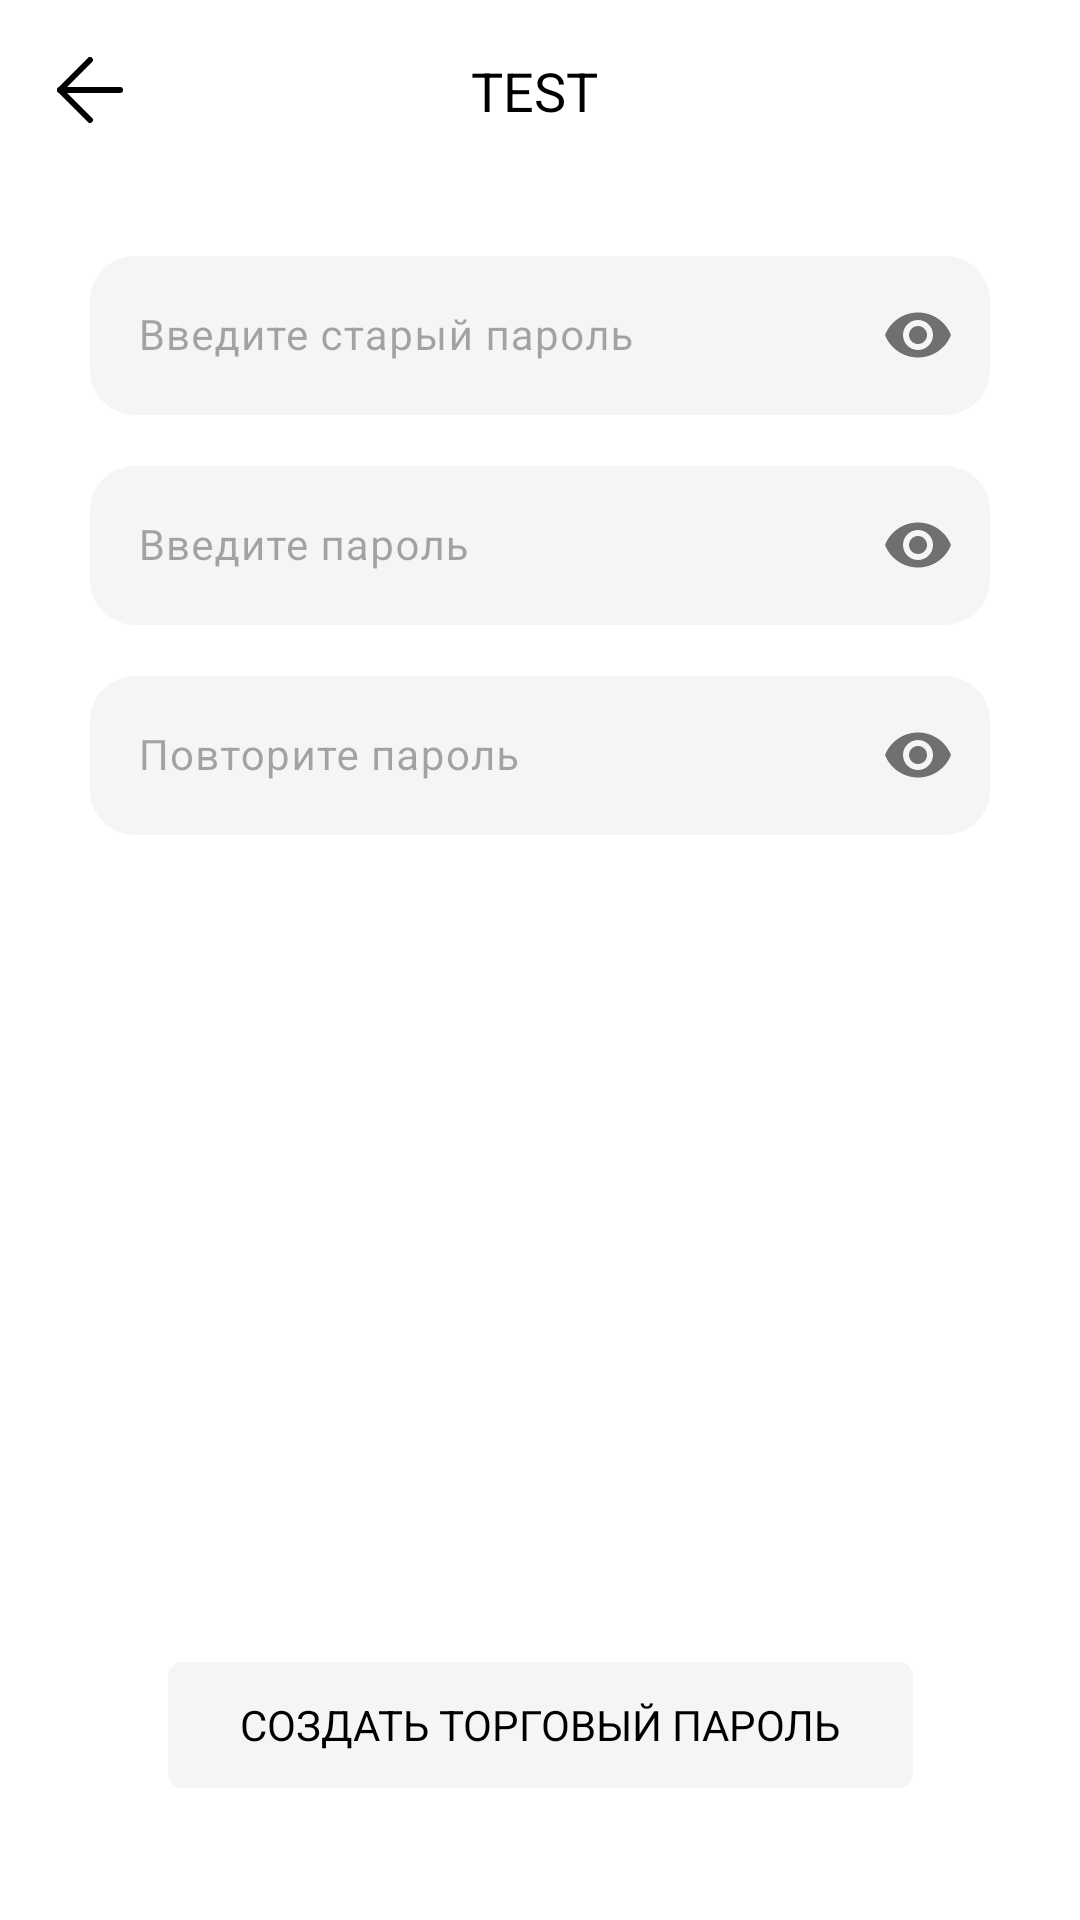

Locate icon controls on the screen. Image size 1080w x 1920h, boxes as BBox(x1, y1, x2, y2).
arrow left: BBox(57, 57, 123, 123)
